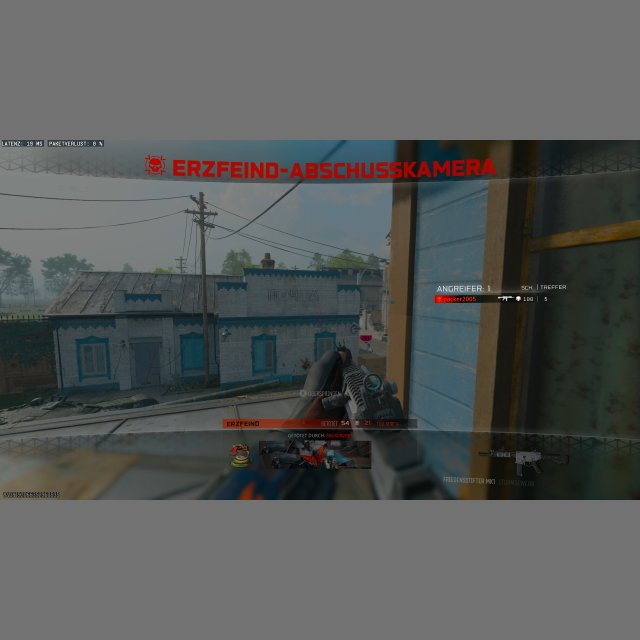player: (267, 342, 441, 499)
